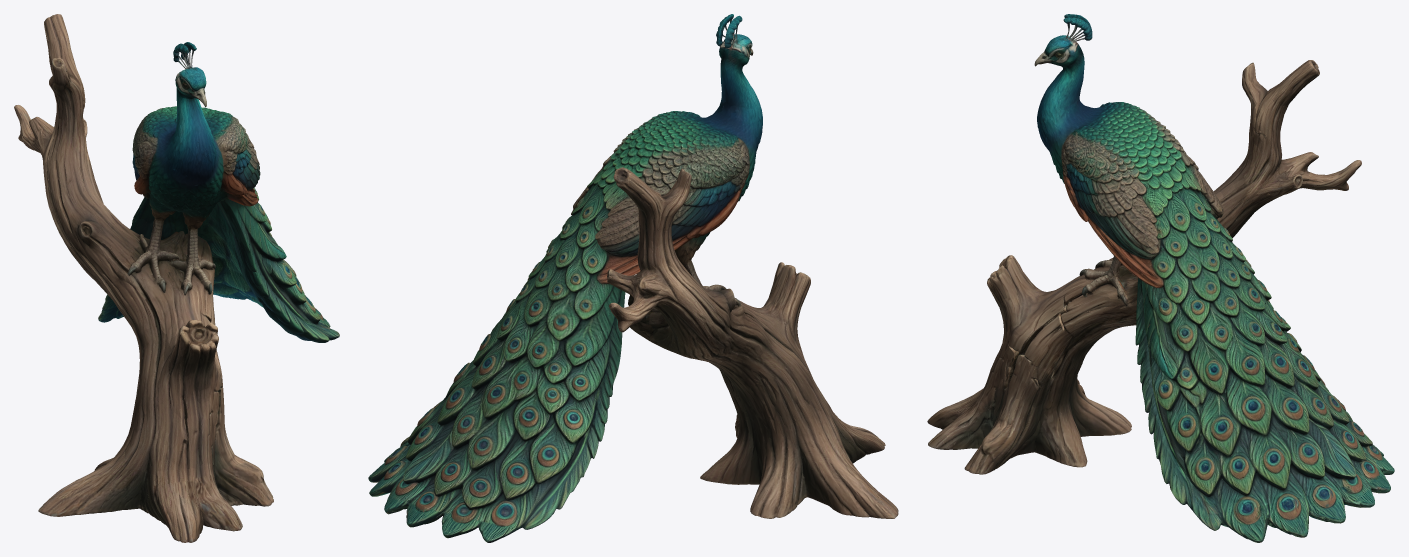
Rendered from Peacock.glb.
3 views of the same model, side by side, from view 1: azimuth 30°, elevation 25°; view 2: azimuth 150°, elevation 25°; view 3: azimuth 270°, elevation 25° (orthographic). The views are drawn at different scales.
Visible parts, largest first — view 1: output_unwrapped; view 2: output_unwrapped; view 3: output_unwrapped.
Boxes of the visible parts, x1,y1,x2,y2 form: output_unwrapped: [14, 14, 339, 542]; output_unwrapped: [368, 14, 898, 542]; output_unwrapped: [927, 14, 1394, 542].
Bounding box in the file's own units: 1.76 × 1.9 × 1.83.
Materials: 1 (1 with a texture image).
